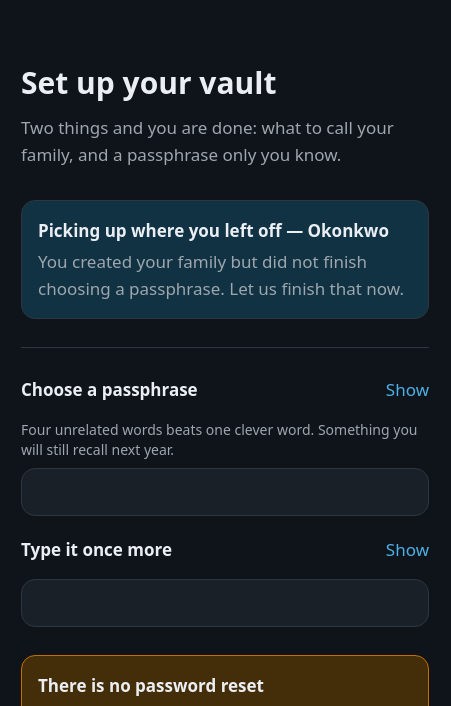
Scenario: setting up a vault › does not create a second family when resuming
The width and height of the screenshot is (451, 706).
Expected: the text "Picking up where you left off — Okonkwo" is shown, x1=38 y1=217 x2=412 y2=244
Type "the right passphrase" into the password field named "Choose a passphrase".
click(225, 492); type("the right passphrase")  # box x1=21 y1=468 x2=429 y2=516
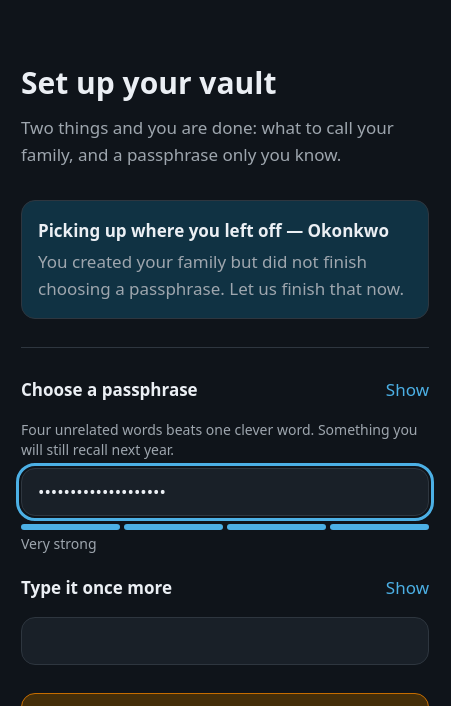
Type "the right passphrase" into the password field named "Type it once more".
click(225, 641); type("the right passphrase")  # box x1=21 y1=617 x2=429 y2=665
(page scrolled)
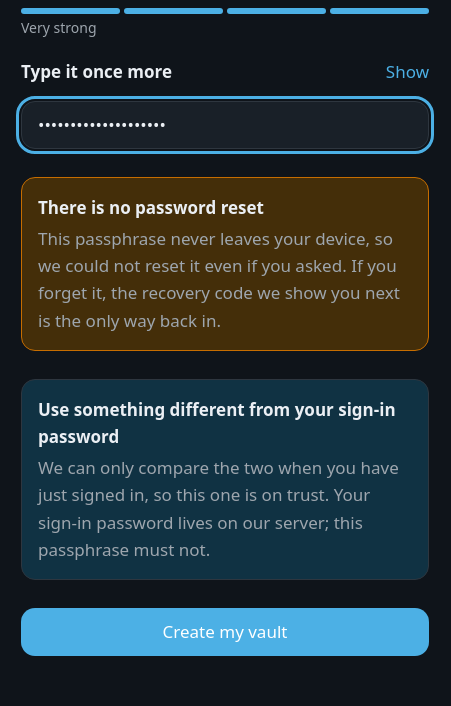
Click the button "Create my vault".
click(225, 632)  # box x1=21 y1=608 x2=429 y2=656
(page scrolled)
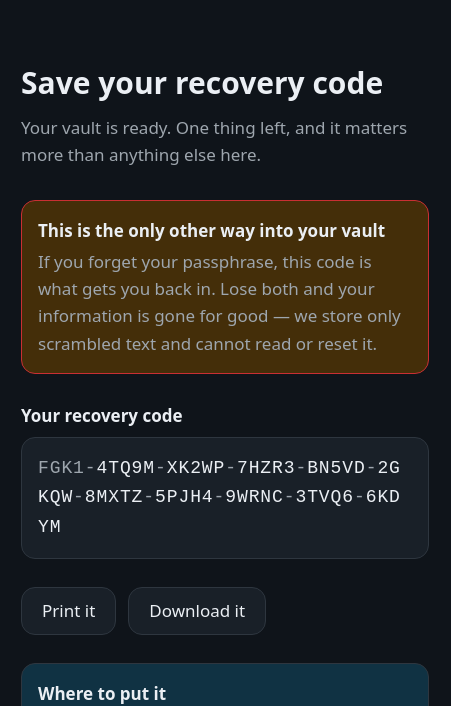
Expected: the text "This is the only other way into your vault" is shown, x1=38 y1=217 x2=412 y2=244
